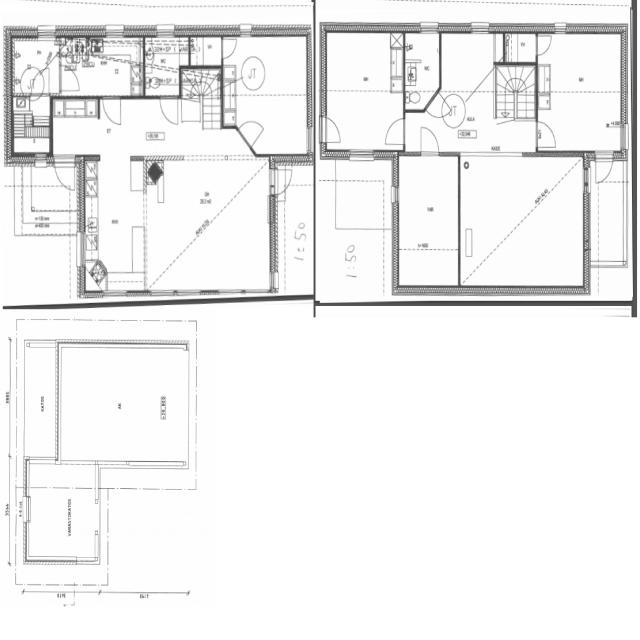door: (51, 154, 78, 194), (57, 61, 84, 98), (156, 92, 183, 128), (98, 92, 125, 128), (236, 118, 266, 150), (269, 163, 295, 197), (534, 118, 559, 152), (318, 114, 344, 146), (418, 122, 441, 156), (383, 115, 406, 147), (593, 152, 615, 185), (220, 33, 238, 59), (534, 33, 552, 57), (384, 184, 402, 207)
window: (457, 144, 532, 162), (245, 27, 306, 41), (341, 146, 380, 164), (102, 286, 134, 302), (153, 26, 177, 41), (33, 151, 51, 169), (103, 27, 126, 41), (417, 21, 441, 34), (468, 21, 491, 34), (36, 28, 58, 41), (236, 26, 254, 41), (552, 20, 568, 34)
zone: (142, 138, 272, 298), (456, 152, 587, 297), (57, 344, 188, 466), (316, 156, 397, 302), (99, 474, 193, 596), (320, 27, 406, 153), (536, 30, 624, 153), (222, 32, 309, 154), (434, 33, 522, 147), (80, 155, 150, 291), (395, 152, 458, 292), (24, 462, 100, 569), (272, 160, 314, 300), (60, 32, 146, 96), (12, 34, 62, 96), (403, 29, 440, 107), (143, 34, 186, 96), (11, 94, 51, 158), (189, 36, 222, 68), (504, 32, 536, 63)
